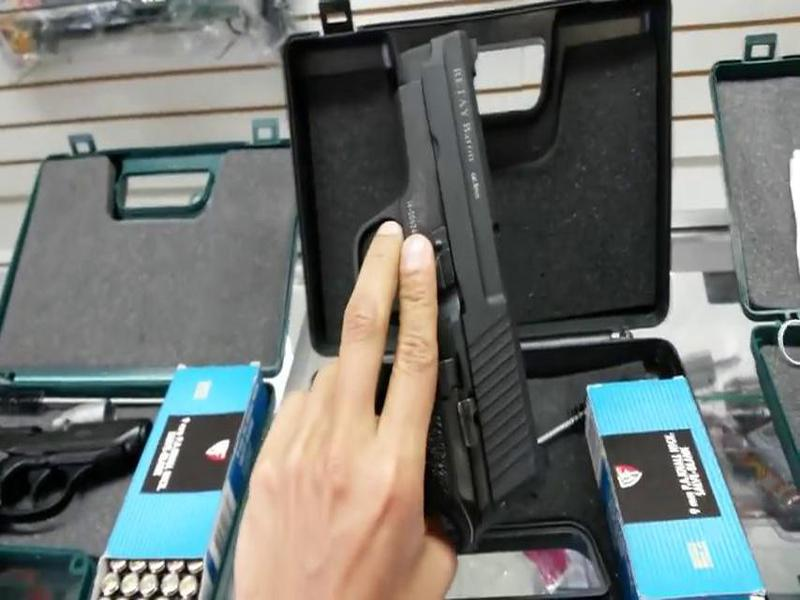Pistola: (230, 1, 609, 554)
